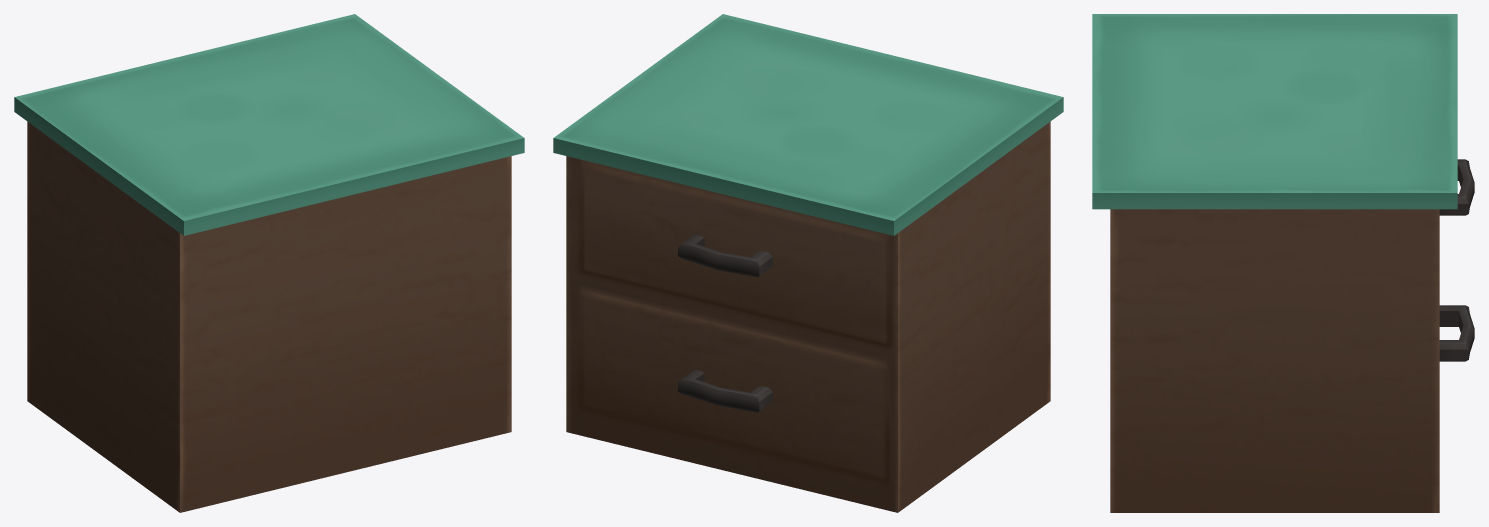
Rendered from Prop_DrawerCabinet.fbx.
3 views of the same model, side by side, from view 1: azimuth 30°, elevation 25°; view 2: azimuth 150°, elevation 25°; view 3: azimuth 270°, elevation 25° (orthographic). The views are drawn at different scales.
Parts seen in each view (by area): view 1: drawer; view 2: drawer; view 3: drawer.
Part boxes in pixels (left/top/right/bottom): drawer: left=14, top=14, right=524, bottom=512; drawer: left=553, top=14, right=1063, bottom=512; drawer: left=1092, top=14, right=1474, bottom=512.
Size of the model in its own units: 169 by 142 by 153.
